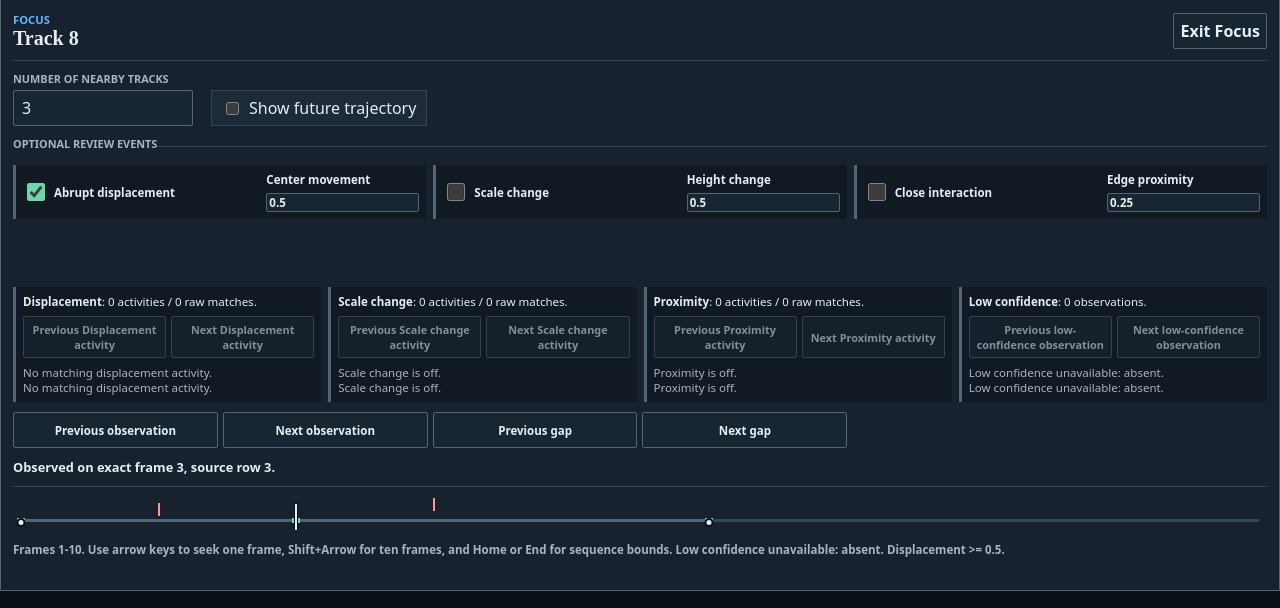
it: FocusReview › reverts invalid drafts on blur and announces why no refresh was sent
Clear the number field named "Displacement threshold in box heights" at (343, 202), box [266,193,419,212]
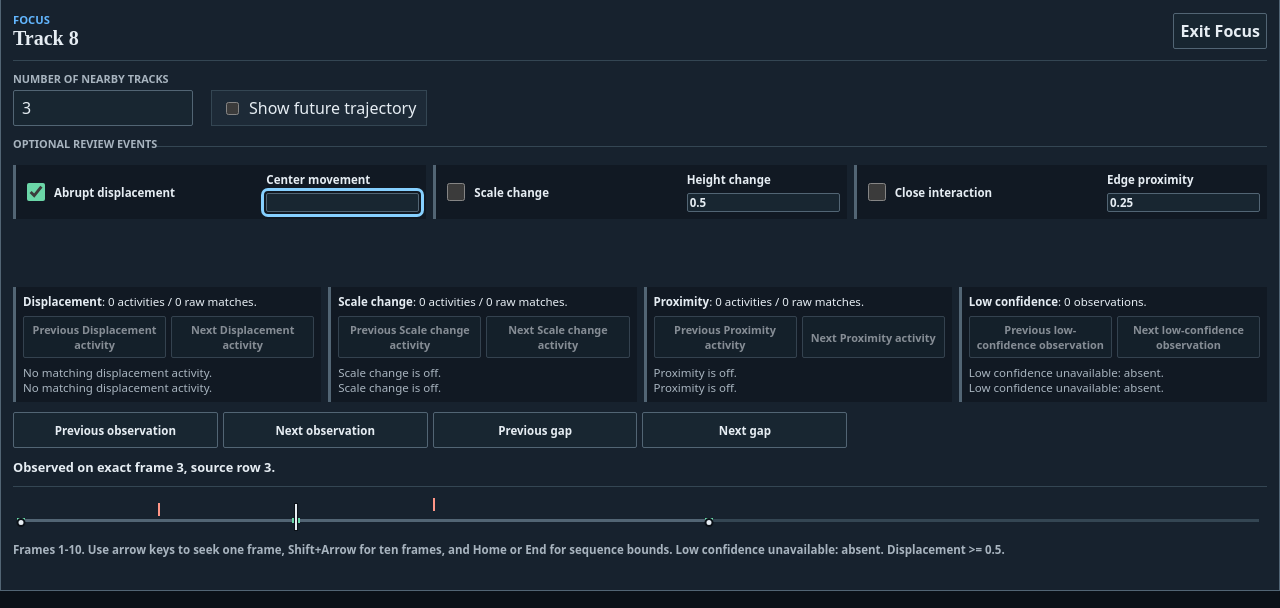
Press Tab
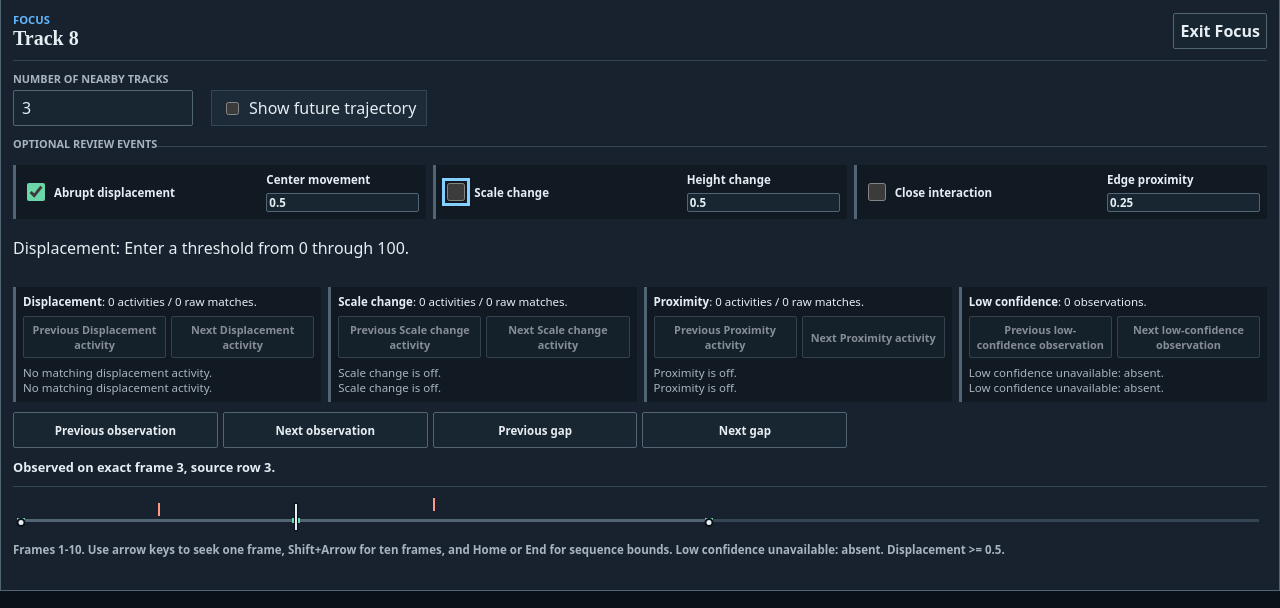
Expected: the number field named "Displacement threshold in box heights" holds "0.5", [266,193,419,212]
Expected: the message reads "Displacement: Enter a threshold from 0 through 100.", [13,237,409,259]
